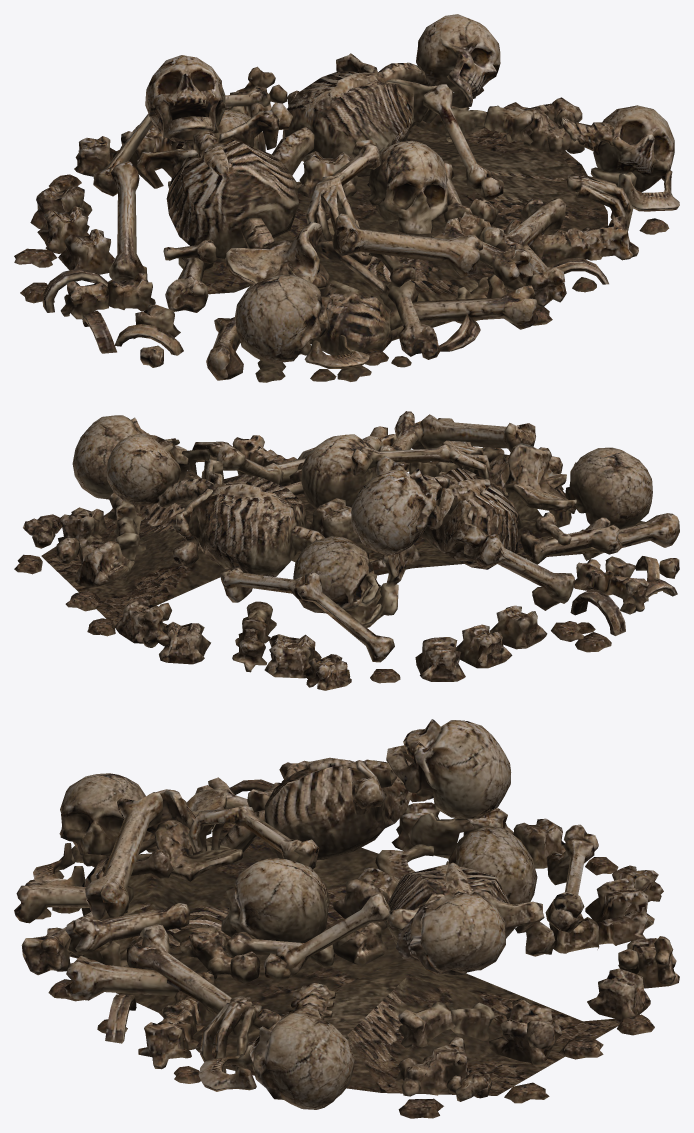
Rendered from source.glb.
3 renders of one model, top to bottom at view 1: azimuth 30°, elevation 25°; view 2: azimuth 150°, elevation 25°; view 3: azimuth 270°, elevation 25°, orthographic. The views are drawn at different scales.
Visible parts, largest first — view 1: tripo_node_9a05bc59-7c4f-447f-900a-0ea6cb8b4372; view 2: tripo_node_9a05bc59-7c4f-447f-900a-0ea6cb8b4372; view 3: tripo_node_9a05bc59-7c4f-447f-900a-0ea6cb8b4372.
Boxes of the visible parts, x1,y1,x2,y2 form: tripo_node_9a05bc59-7c4f-447f-900a-0ea6cb8b4372: (14,14,679,382); tripo_node_9a05bc59-7c4f-447f-900a-0ea6cb8b4372: (14,411,679,690); tripo_node_9a05bc59-7c4f-447f-900a-0ea6cb8b4372: (14,719,679,1118).
Bounding box in the file's own units: 0.9995 × 0.27 × 0.8784.
Materials: 1 (1 with a texture image).
